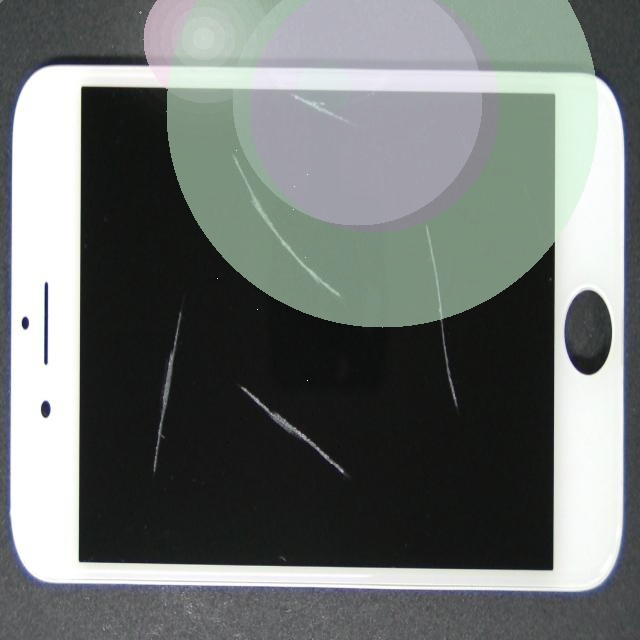scratch: (46, 177, 407, 640), (51, 18, 385, 330)
